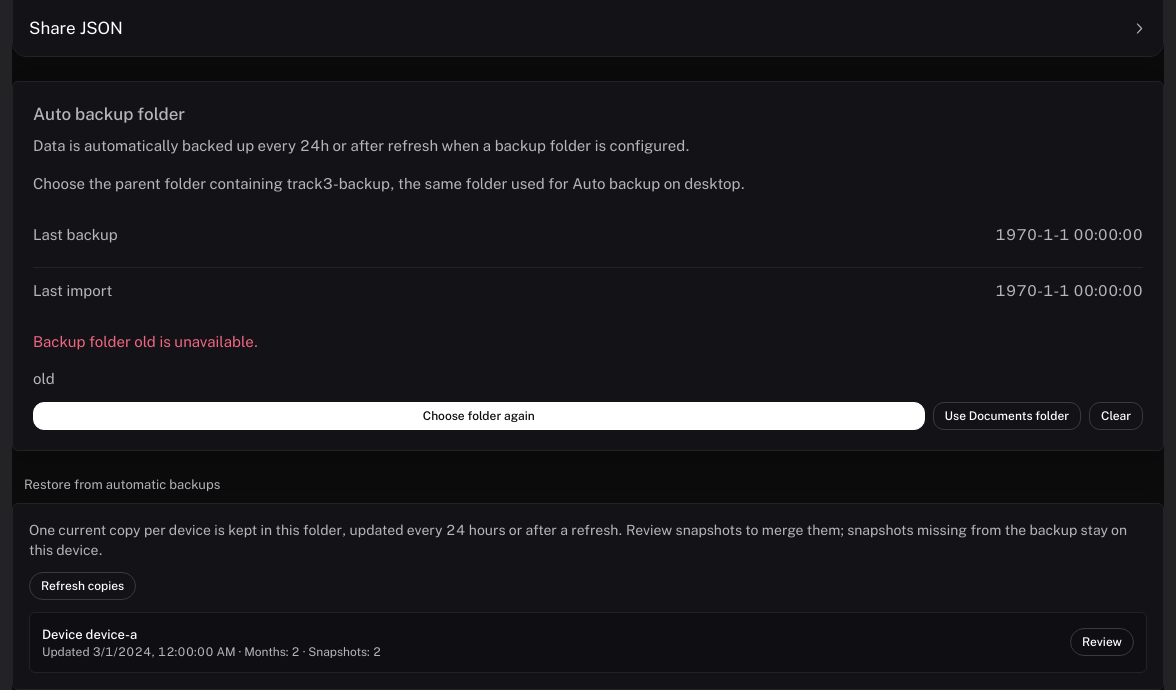
Test: shows a missing saved folder and lets the owner choose again
(page scrolled)
Expected: the message shows "Backup folder old is unavailable", x1=33 y1=332 x2=258 y2=350
Click the button "Choose folder again".
click(479, 416)  # box x1=33 y1=402 x2=925 y2=430
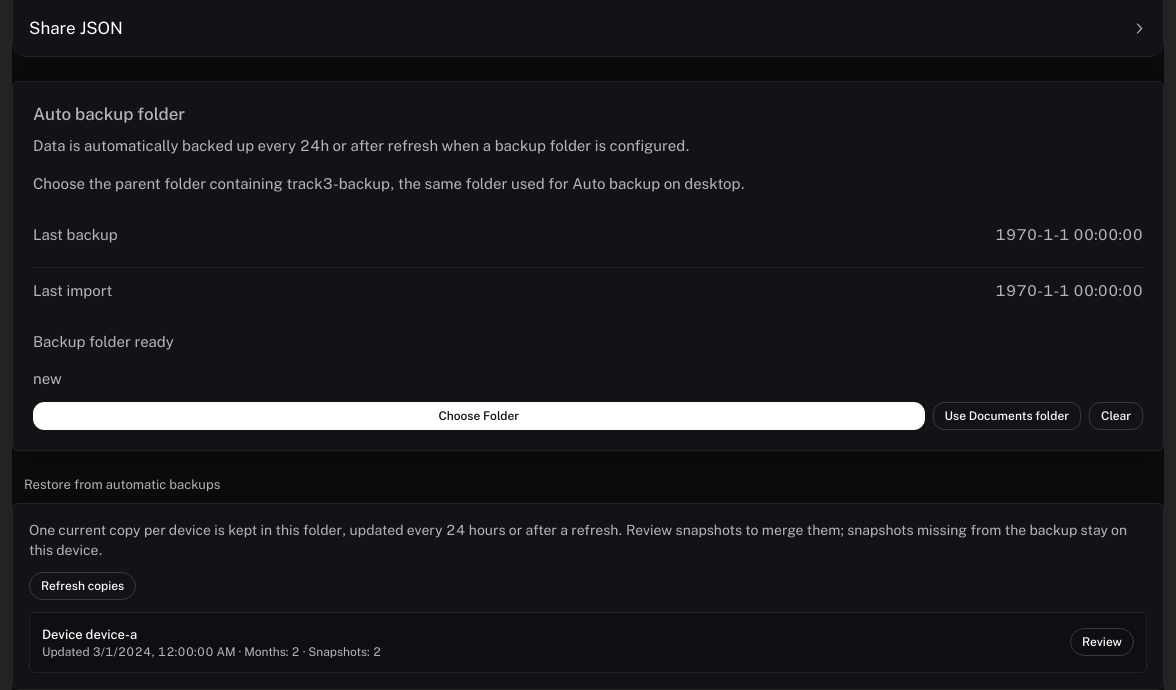
Now the text "new" is shown, box x1=33 y1=370 x2=62 y2=387
